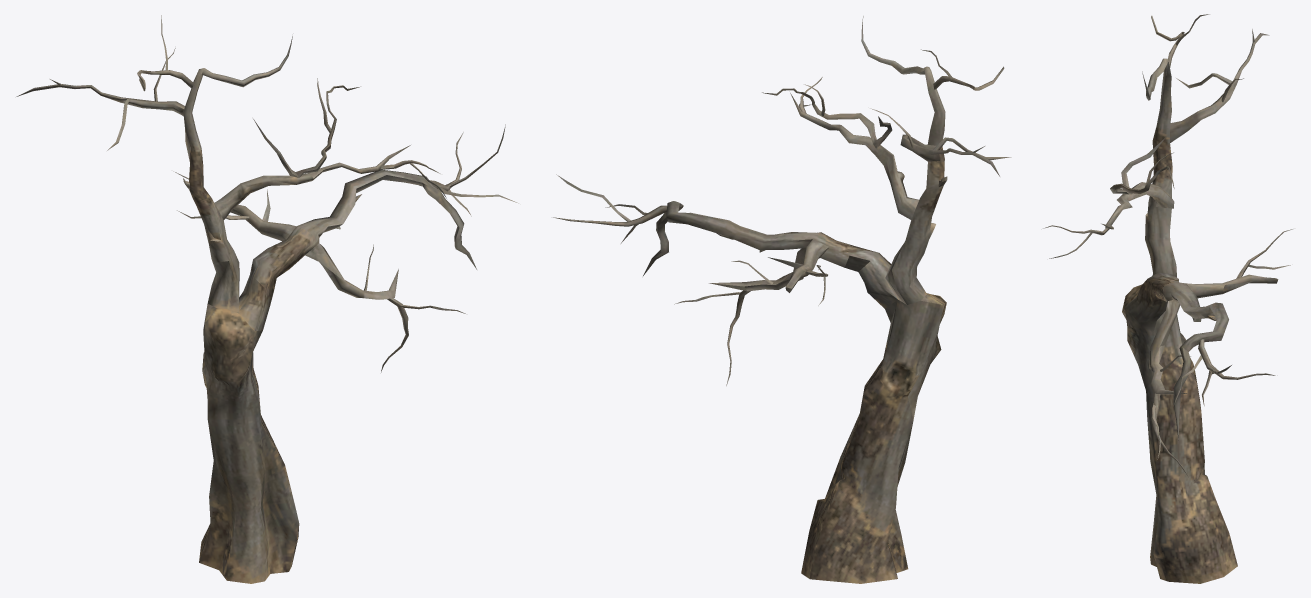
Rendered from S_Tree_Yellow070.FBX.
The picture shows the model from 3 angles, left to right: view 1: azimuth 30°, elevation 25°; view 2: azimuth 150°, elevation 25°; view 3: azimuth 270°, elevation 25°; orthographic projection. The views are drawn at different scales.
Visible parts, largest first — view 1: S_Tree_Yellow070; view 2: S_Tree_Yellow070; view 3: S_Tree_Yellow070.
Boxes of the visible parts, x1,y1,x2,y2 form: S_Tree_Yellow070: [16, 15, 518, 583]; S_Tree_Yellow070: [553, 16, 1011, 583]; S_Tree_Yellow070: [1043, 14, 1292, 583].
Size of the model in its own units: 635 by 323 by 723.
